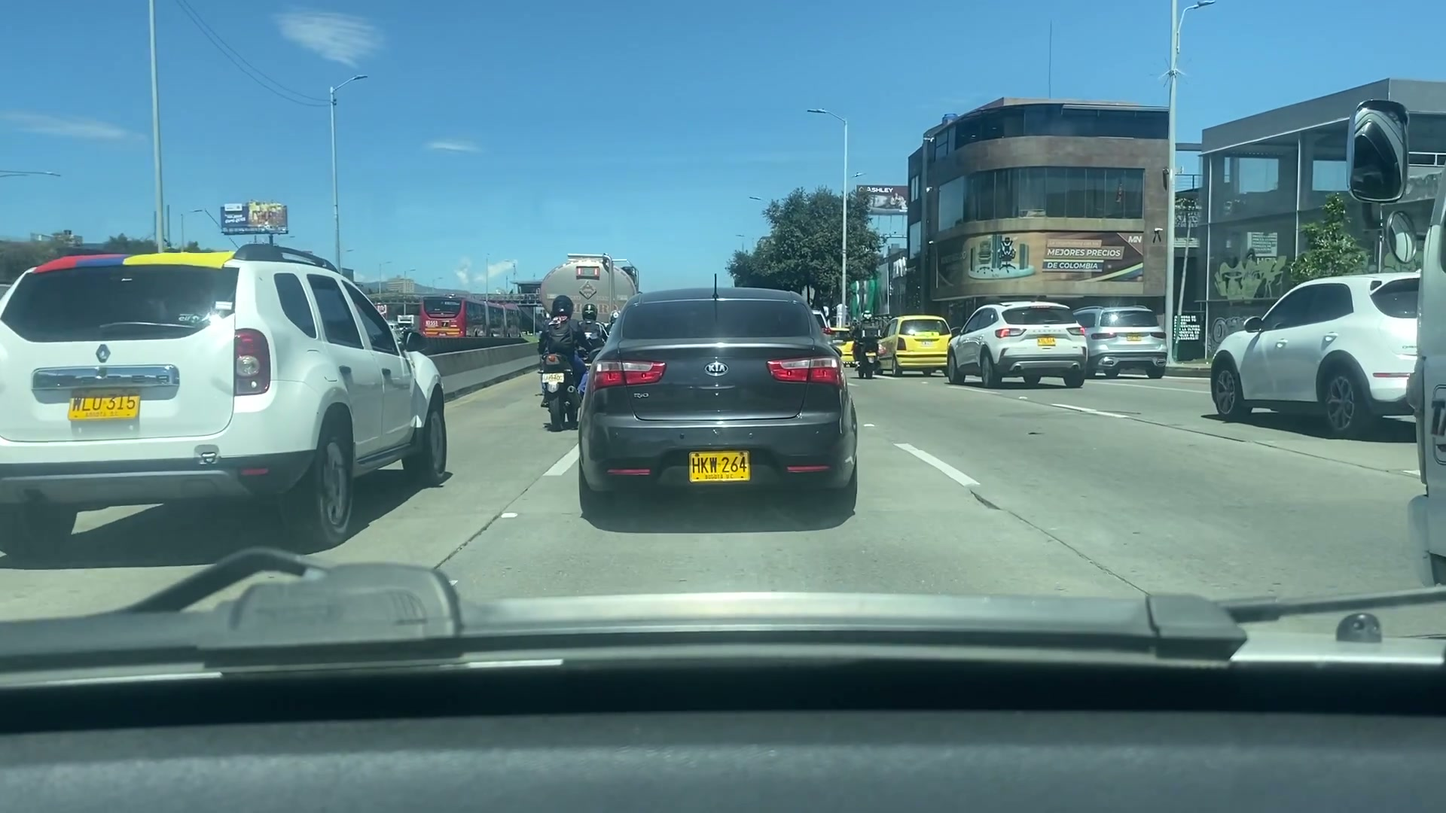bus: (413, 291, 523, 341)
car: (0, 243, 455, 558), (578, 288, 856, 518), (1205, 272, 1440, 419), (947, 300, 1090, 385), (1071, 301, 1172, 384), (877, 314, 954, 374)
motorcycle: (539, 351, 582, 428), (851, 341, 881, 379)
person: (542, 290, 578, 408), (575, 302, 608, 382)
